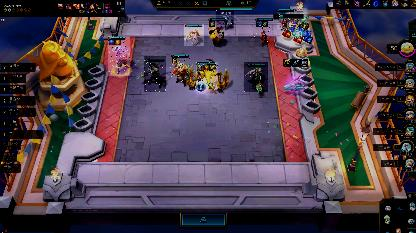1_bard: (208, 18, 228, 46)
1_idas: (196, 62, 218, 90)
1_joy: (184, 24, 204, 46)
1_soraka: (216, 10, 234, 30)
1_volibear: (170, 54, 190, 86)
1_xayah: (254, 19, 272, 47), (277, 10, 291, 30)
1_yasuo: (108, 36, 130, 76)
2_jax: (244, 62, 268, 92)
2_nasus: (144, 56, 166, 92)
